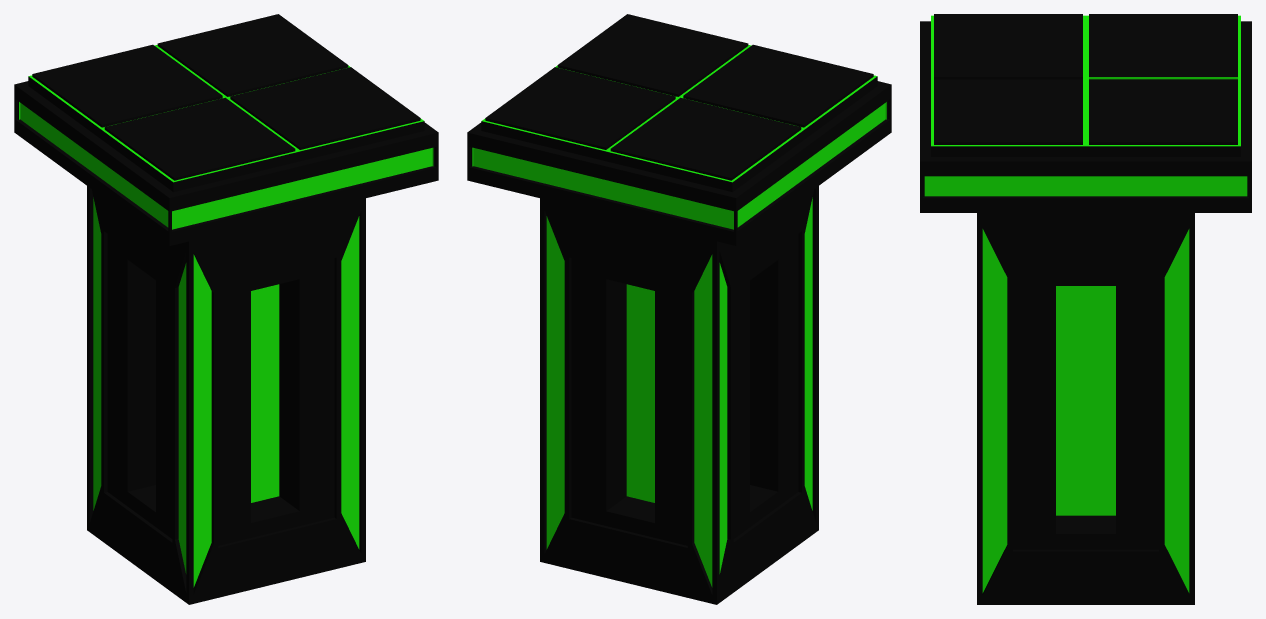
File: 1lvl.FBX
The picture shows the model from 3 angles, left to right: view 1: azimuth 30°, elevation 25°; view 2: azimuth 150°, elevation 25°; view 3: azimuth 270°, elevation 25°; orthographic projection. The views are drawn at different scales.
Visible parts, largest first — view 1: Box001; view 2: Box001; view 3: Box001.
Boxes of the visible parts, box(x1,y1,x2,y2) form: Box001: box(14, 14, 438, 604); Box001: box(467, 14, 891, 604); Box001: box(920, 14, 1251, 604).
Bounding box in the file's own units: 215 × 343 × 215.
